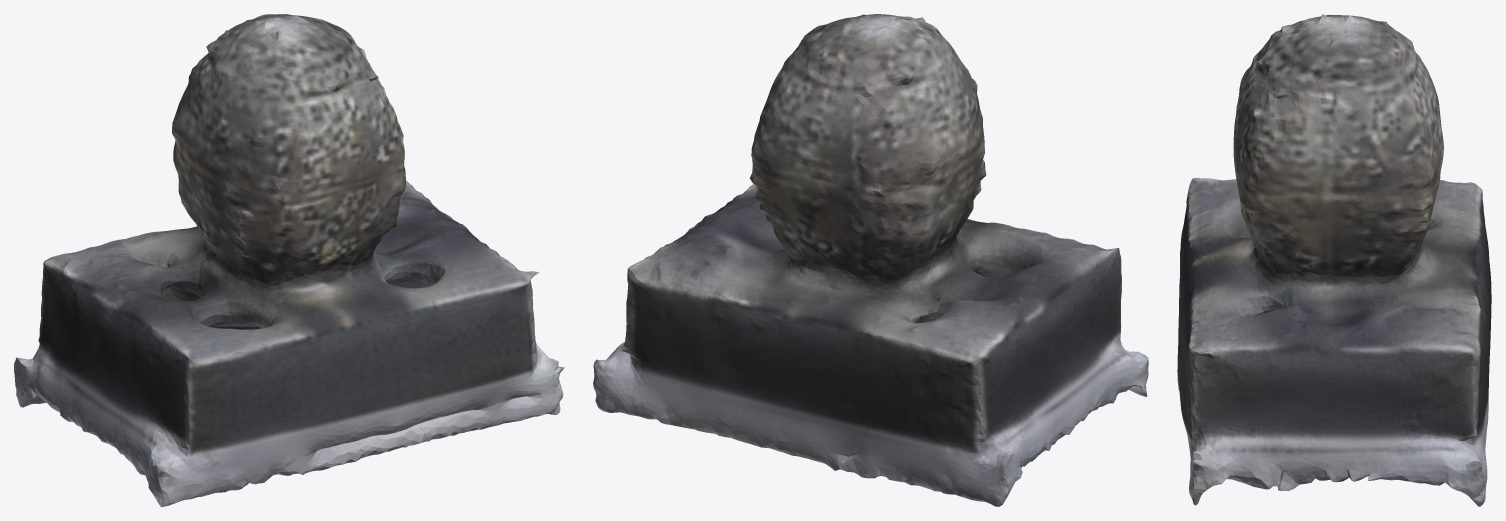
Rendered from toothpick_holder.glb.
3 renders of one model, left to right at view 1: azimuth 30°, elevation 25°; view 2: azimuth 150°, elevation 25°; view 3: azimuth 270°, elevation 25°, orthographic.
Bounding box in the file's own units: 0.7464 × 0.6742 × 0.4915.
Materials: 1 (1 with a texture image).
